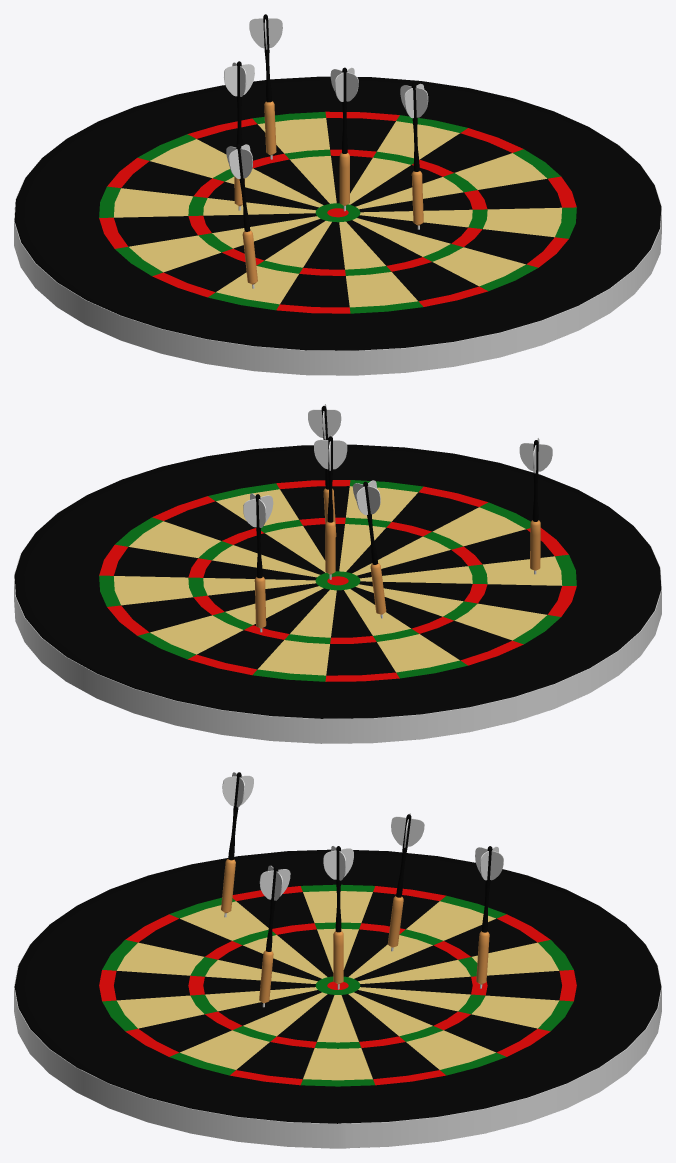
The model's file is Dart board.fbx.
3 renders of one model, top to bottom at view 1: azimuth 30°, elevation 25°; view 2: azimuth 150°, elevation 25°; view 3: azimuth 270°, elevation 25°, orthographic.
Visible parts, largest first — view 1: Dart board; view 2: Dart board; view 3: Dart board.
Boxes of the visible parts, x1,y1,x2,y2 form: Dart board: (14,14,661,375); Dart board: (14,404,661,743); Dart board: (14,772,661,1148).
Bounding box in the file's own units: 45.13 × 12.96 × 45.09.
